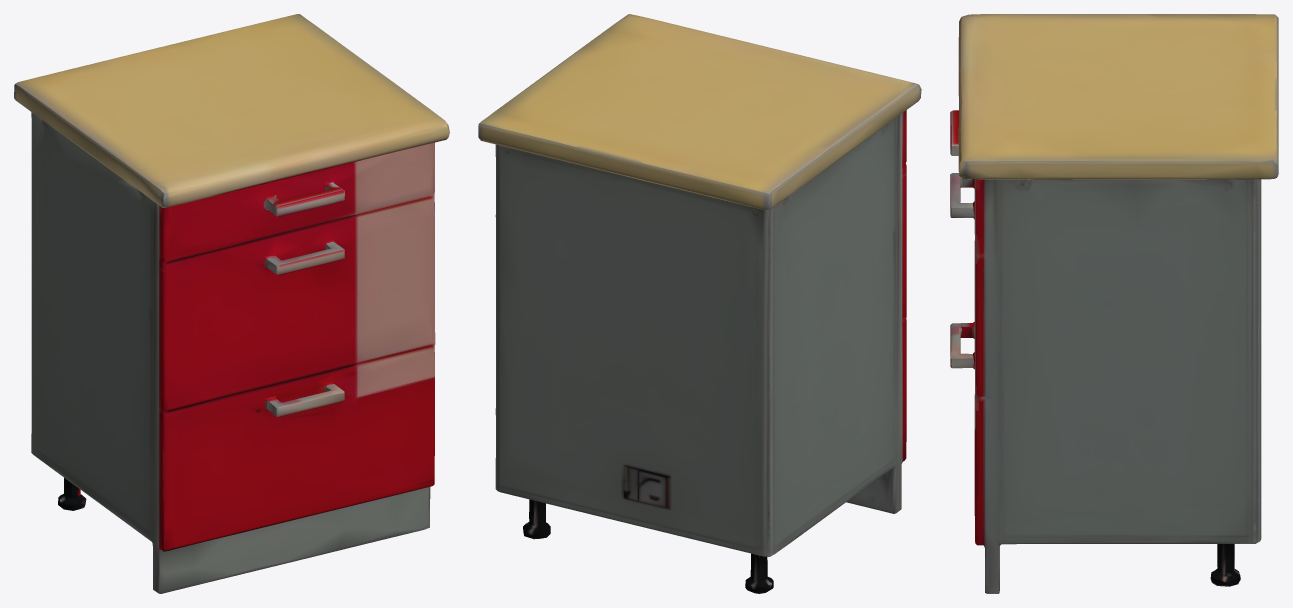
The model's file is PlanCuisine3_3D_textured.glb.
3 views of the same model, side by side, from view 1: azimuth 30°, elevation 25°; view 2: azimuth 150°, elevation 25°; view 3: azimuth 270°, elevation 25° (orthographic). The views are drawn at different scales.
Visible parts, largest first — view 1: temp_mesh.ply; view 2: temp_mesh.ply; view 3: temp_mesh.ply.
Part boxes in pixels (x1,y1,x2,y2): temp_mesh.ply: (14,14,449,593); temp_mesh.ply: (478,14,921,593); temp_mesh.ply: (950,14,1278,593).
Bounding box in the file's own units: 1.43 × 1.97 × 1.34.
1 material, 1 textured.
